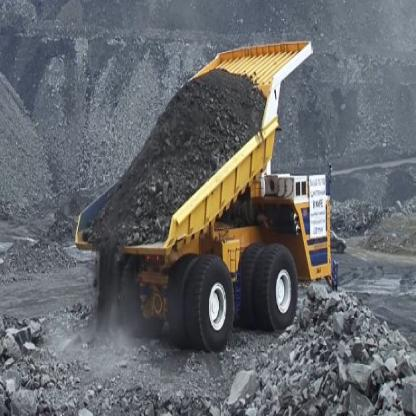dump_truck: (66, 20, 340, 348)
